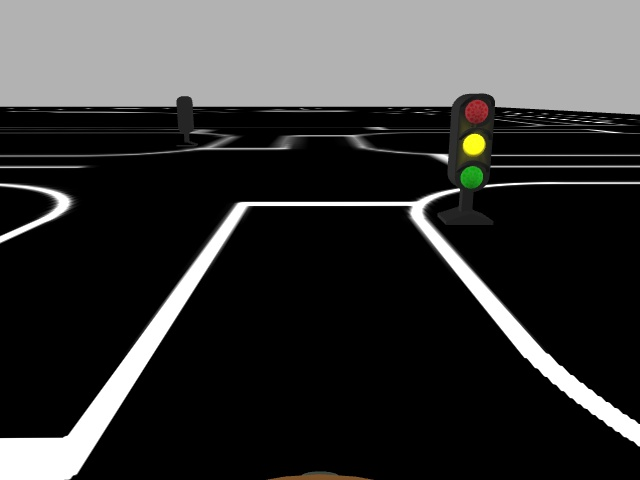yellow_light: (449, 92, 496, 193)
